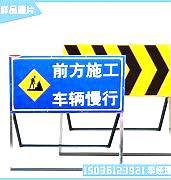sign: (9, 55, 126, 112)
